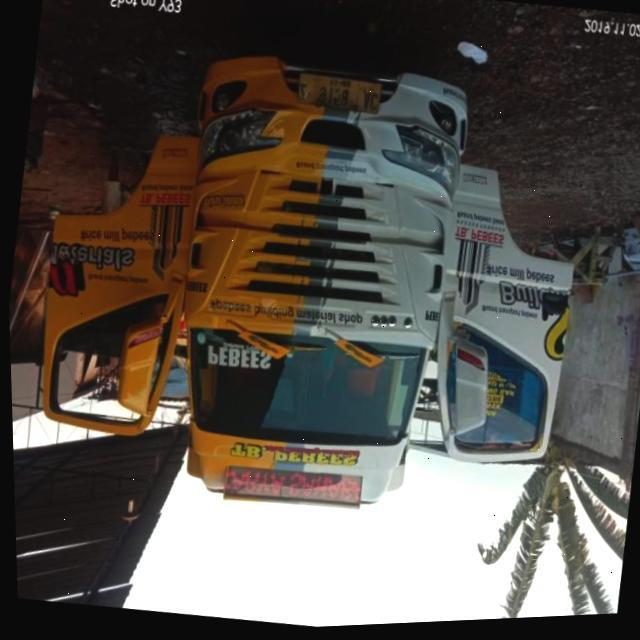truck: (10, 8, 602, 552)
